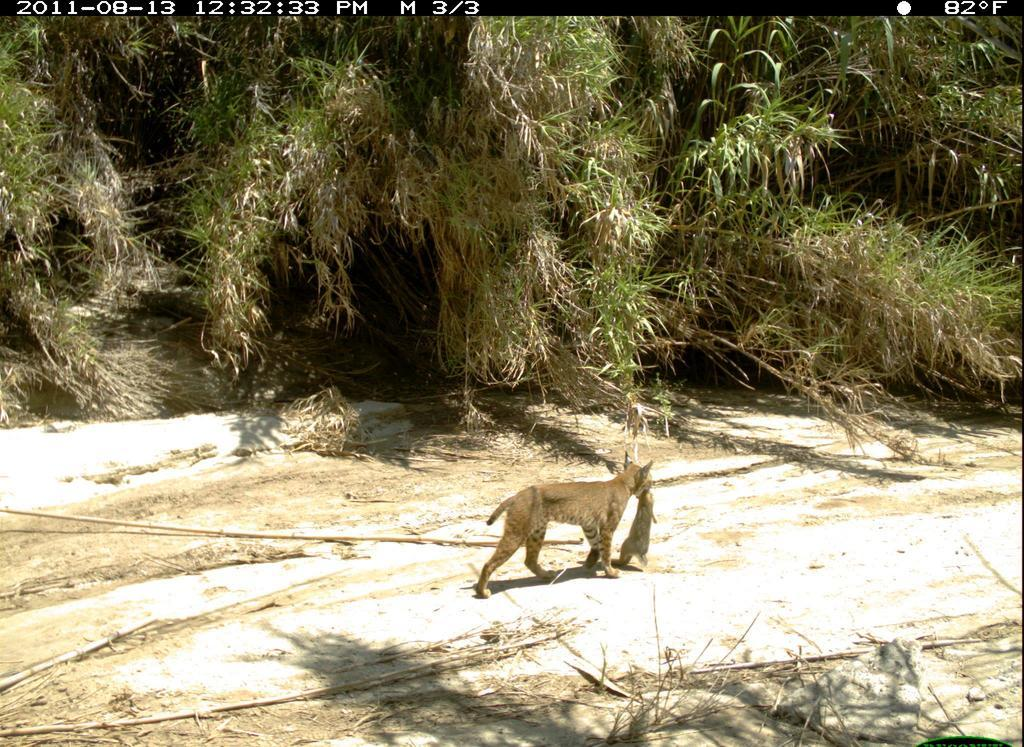rabbit: (615, 483, 662, 580)
